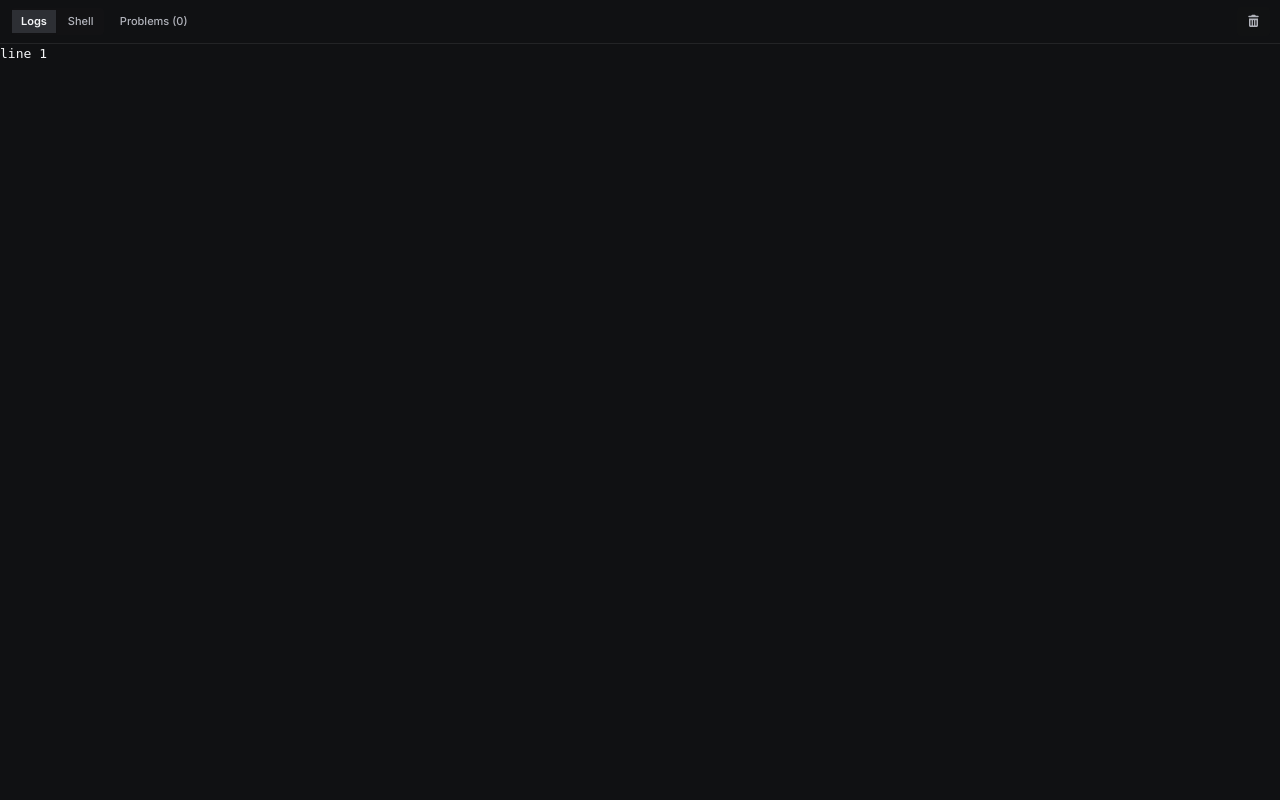
it: BottomPanel › closes the clear confirmation without clearing output
The image size is (1280, 800).
// Click the inline Clear button to trigger the dialog
Click the button named "clear" at (1253, 21), box 1239,9 -> 1268,34
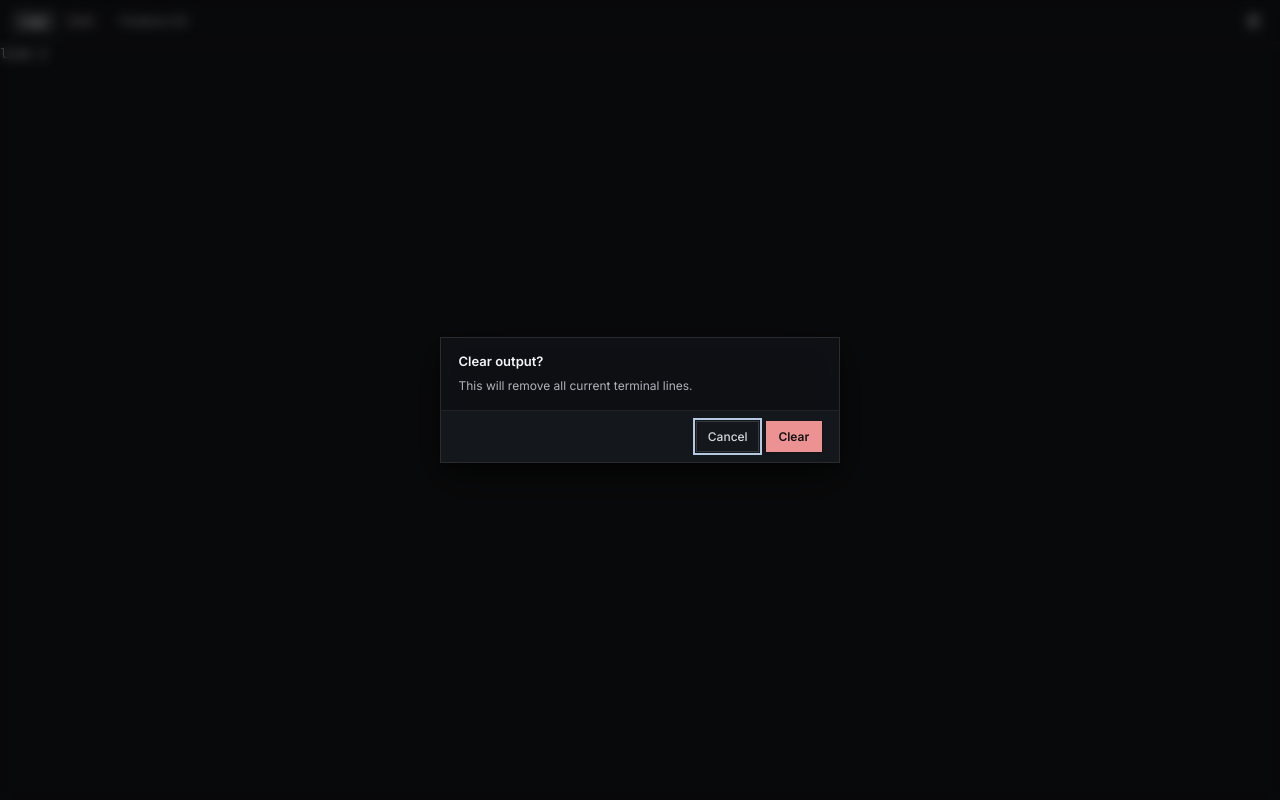
Check: the dialog "Clear output?" is shown
Click the button "Cancel" at (728, 437), box 696,421 -> 759,452
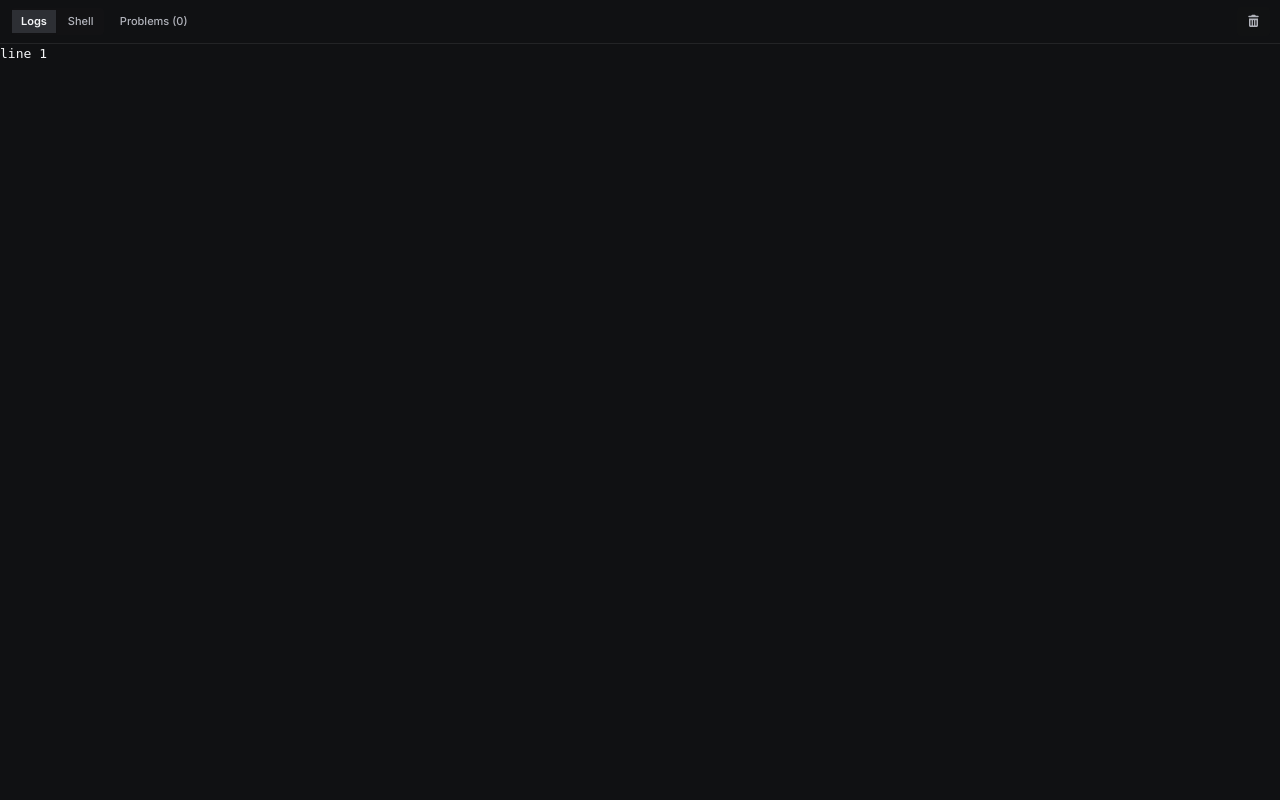
Check: the text "Clear output?" is gone
